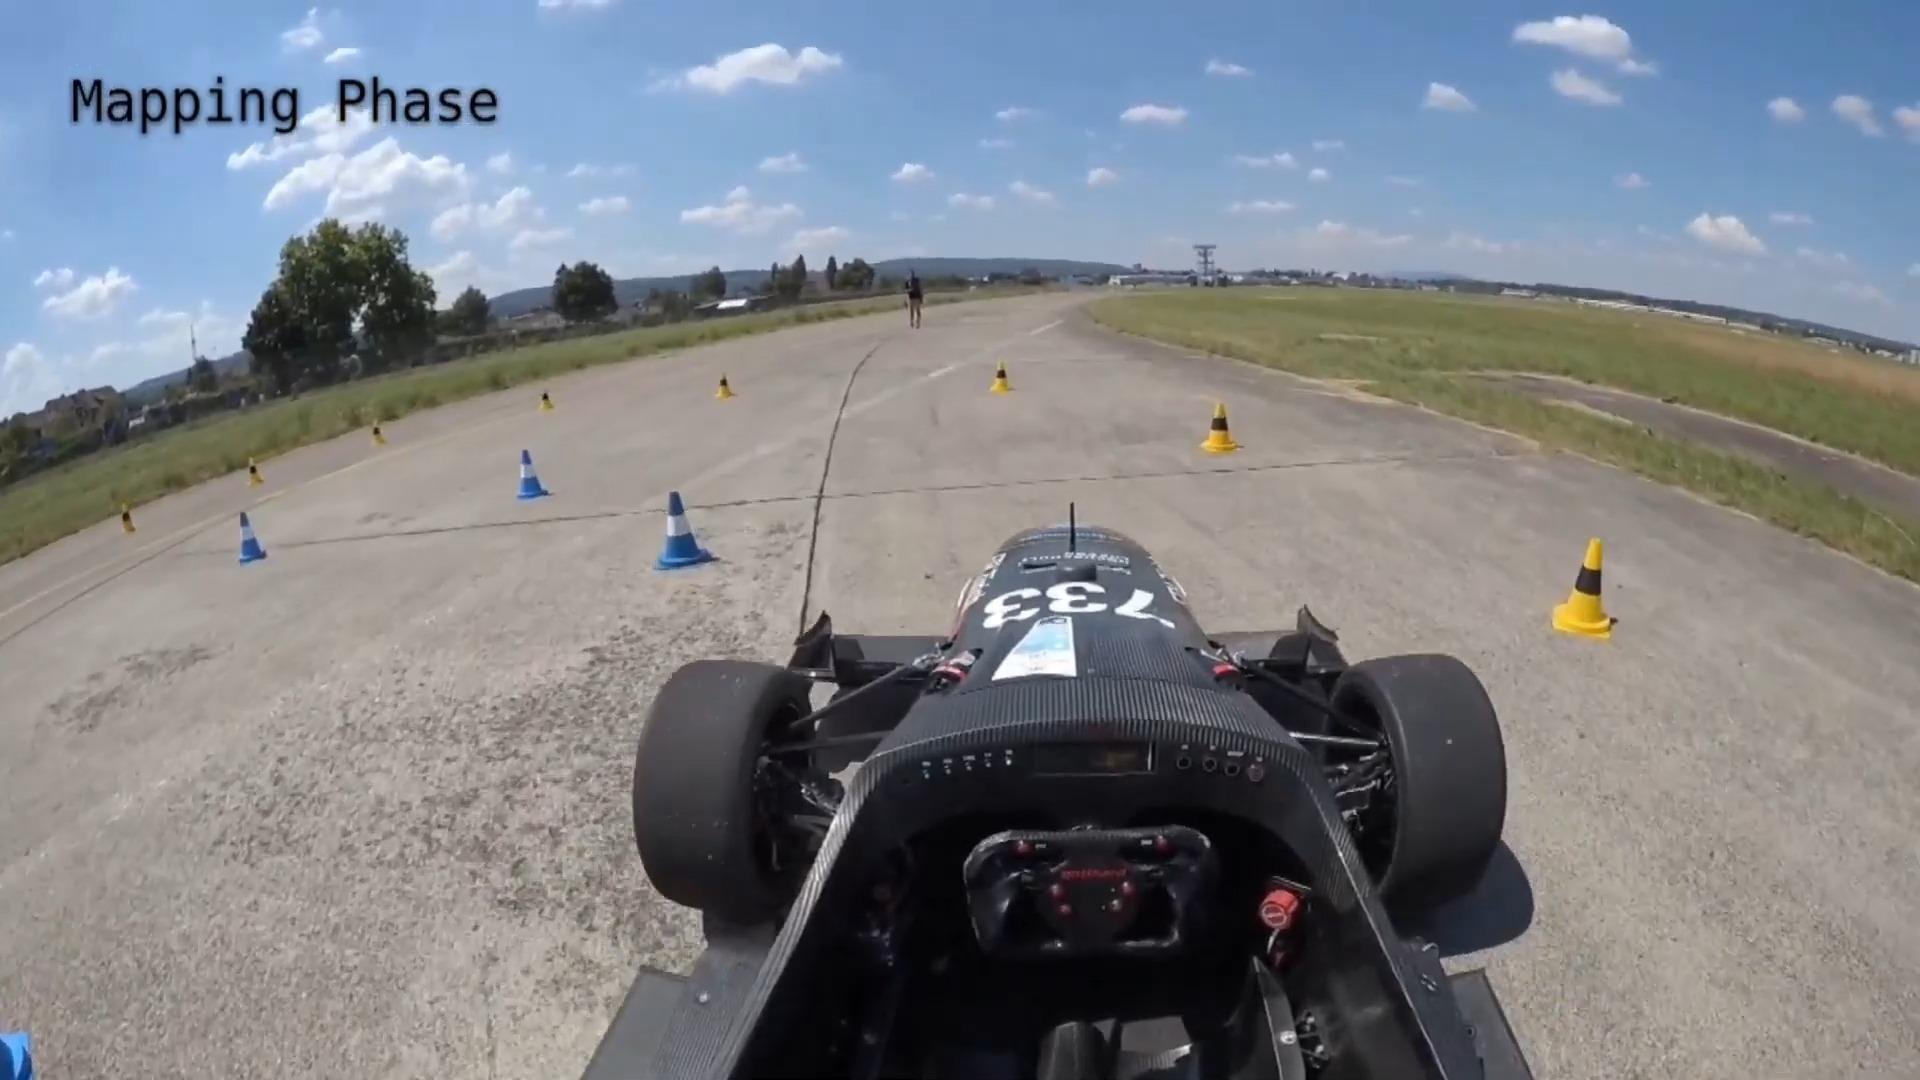blue_cone: (649, 485, 724, 580), (513, 448, 551, 502), (235, 511, 269, 567)
yellow_cone: (1548, 535, 1623, 636), (1199, 405, 1241, 455), (709, 367, 738, 402), (988, 360, 1013, 396), (244, 453, 267, 490), (534, 385, 562, 414), (369, 420, 388, 453), (120, 504, 138, 538)
